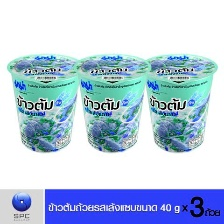paper_cup: (2, 47, 87, 156), (70, 47, 154, 156), (141, 48, 220, 156)
